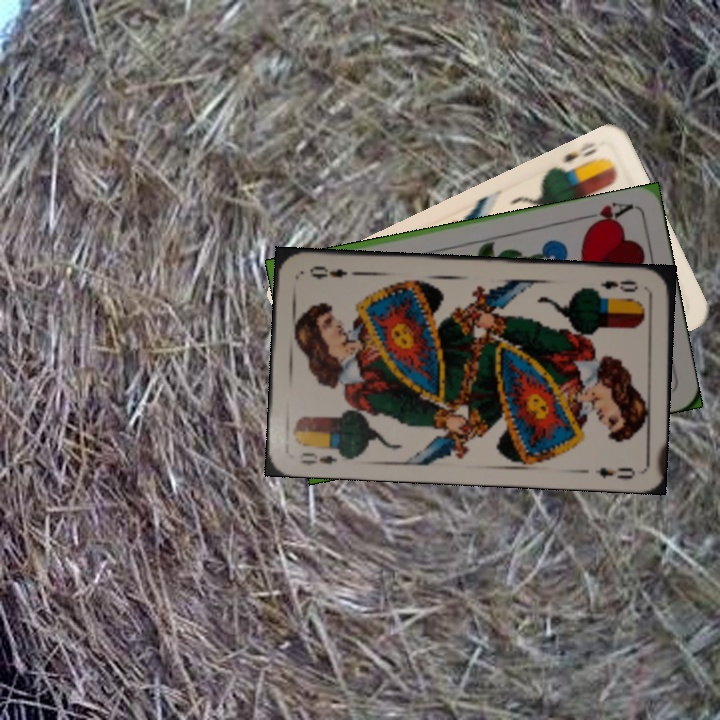EO: (552, 137, 608, 175), (298, 448, 340, 468), (596, 276, 640, 295)
HA: (577, 198, 636, 231)
